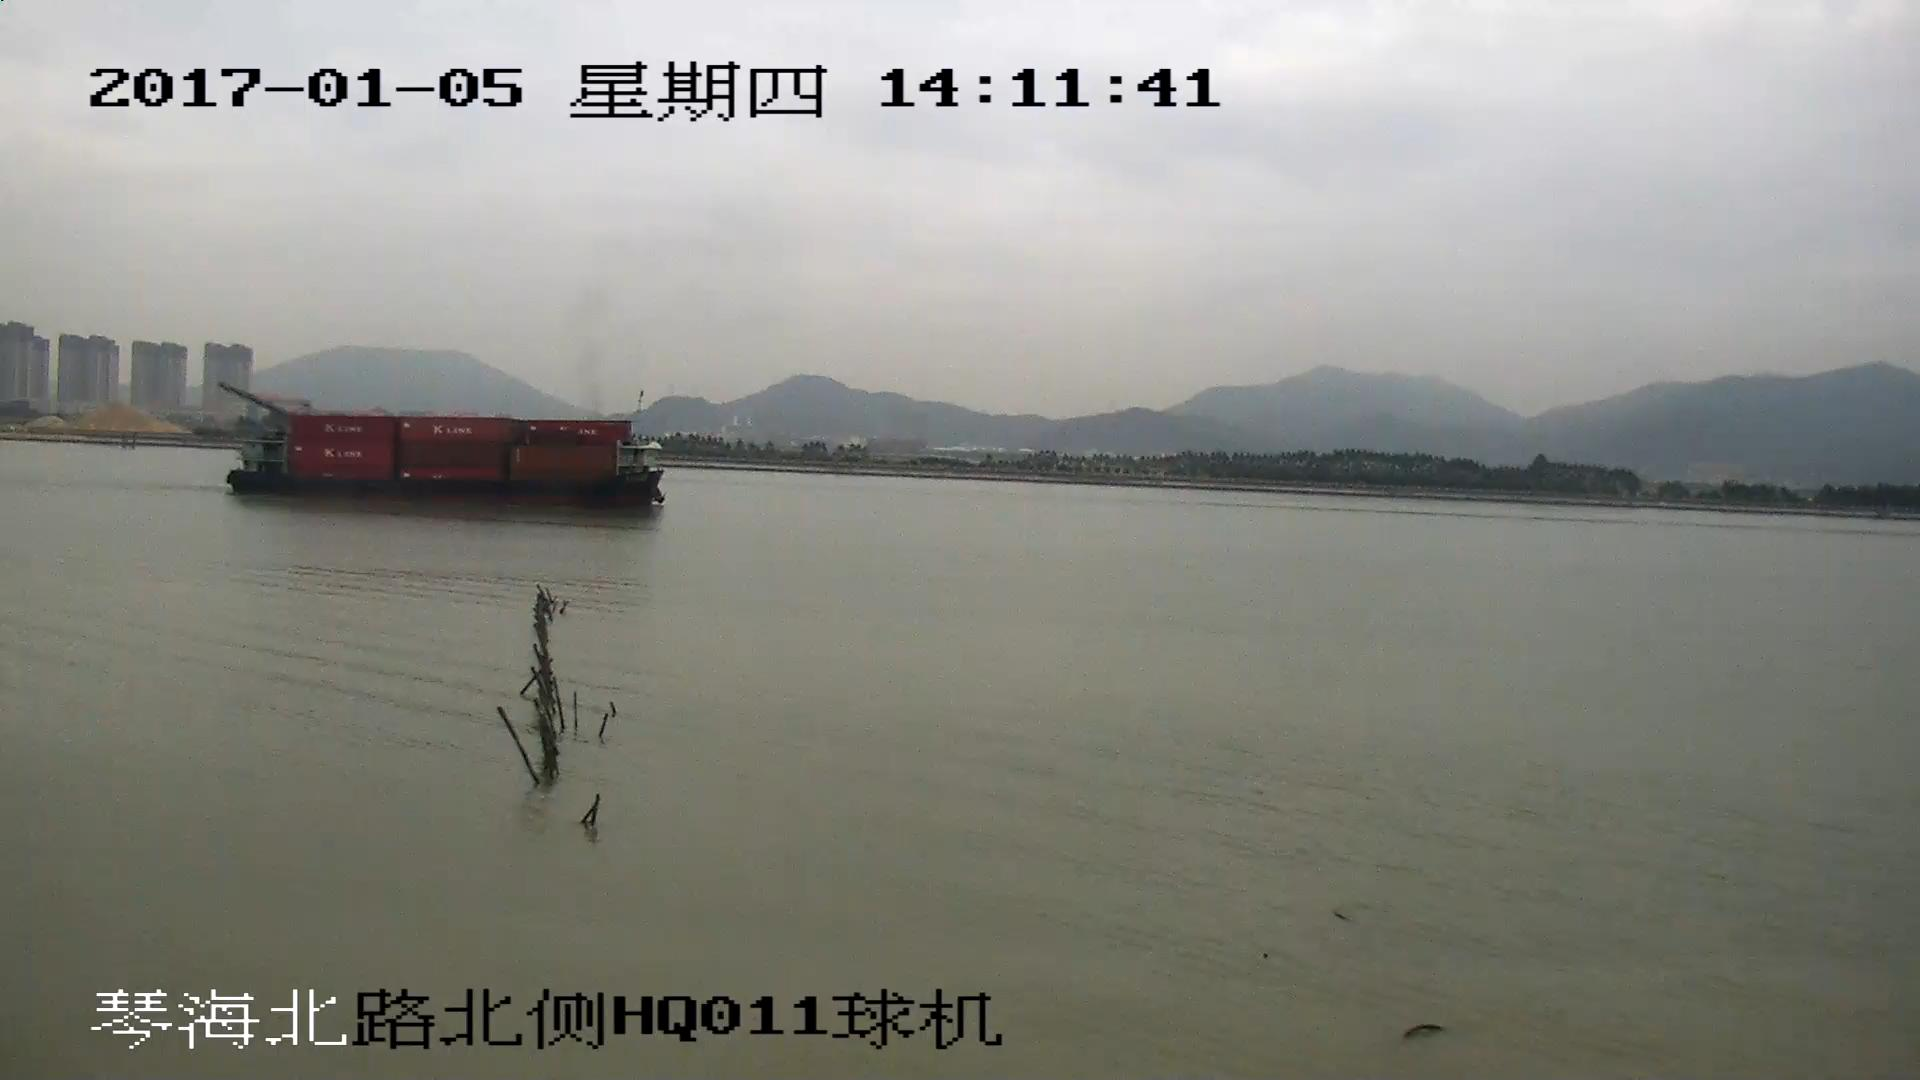container ship: (227, 410, 667, 513)
